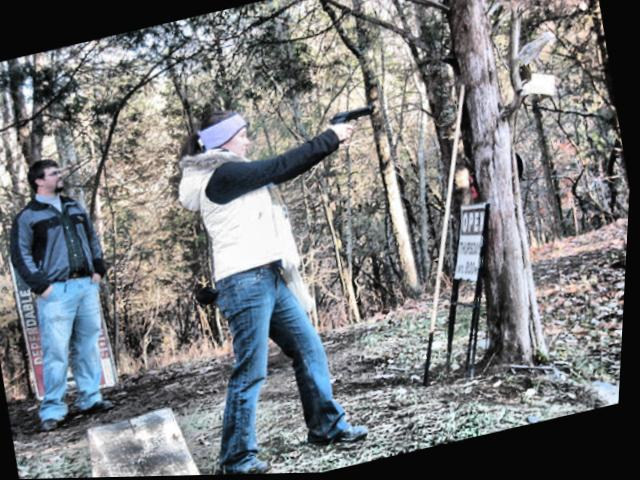pistol: (325, 102, 377, 130)
